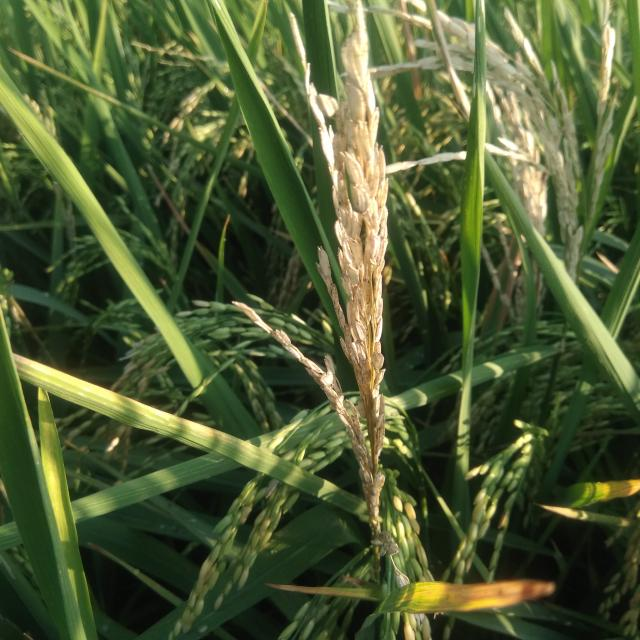Brown spot: (420, 576, 562, 619), (579, 475, 640, 511)
brown plant hopper: (200, 0, 270, 104), (465, 0, 491, 150)
